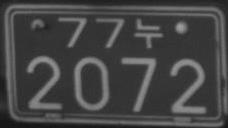0: (73, 55, 109, 112)
2: (26, 53, 63, 110), (170, 57, 207, 114)
7: (120, 56, 157, 112), (57, 15, 88, 48), (95, 15, 125, 48)
누: (134, 16, 163, 49)
